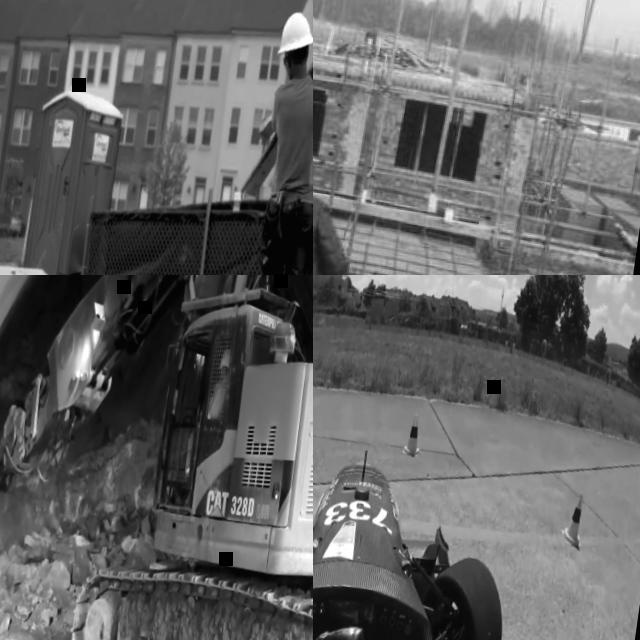Hardhat: (277, 9, 313, 60), (219, 348, 234, 372)
NO-Safety Vest: (261, 74, 313, 203)
Person: (229, 9, 313, 275), (169, 341, 236, 511)
Safety Cone: (558, 490, 590, 545), (400, 416, 426, 462)
Safety Vest: (206, 378, 230, 422)
machinery: (0, 275, 313, 640)
vehicle: (313, 421, 528, 640)
